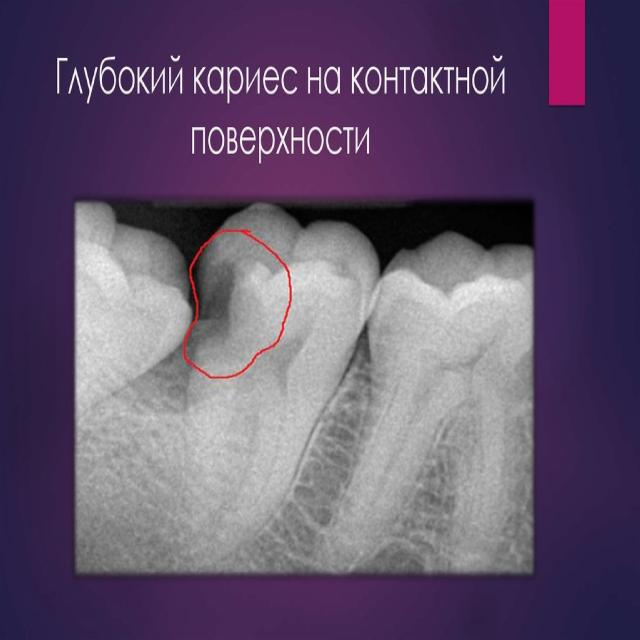Caries: (196, 204, 376, 514)
